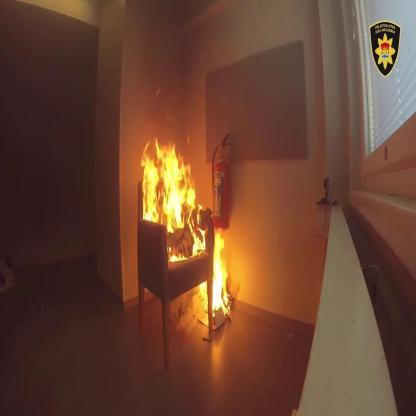Fire: (137, 108, 208, 224), (192, 239, 232, 318)
